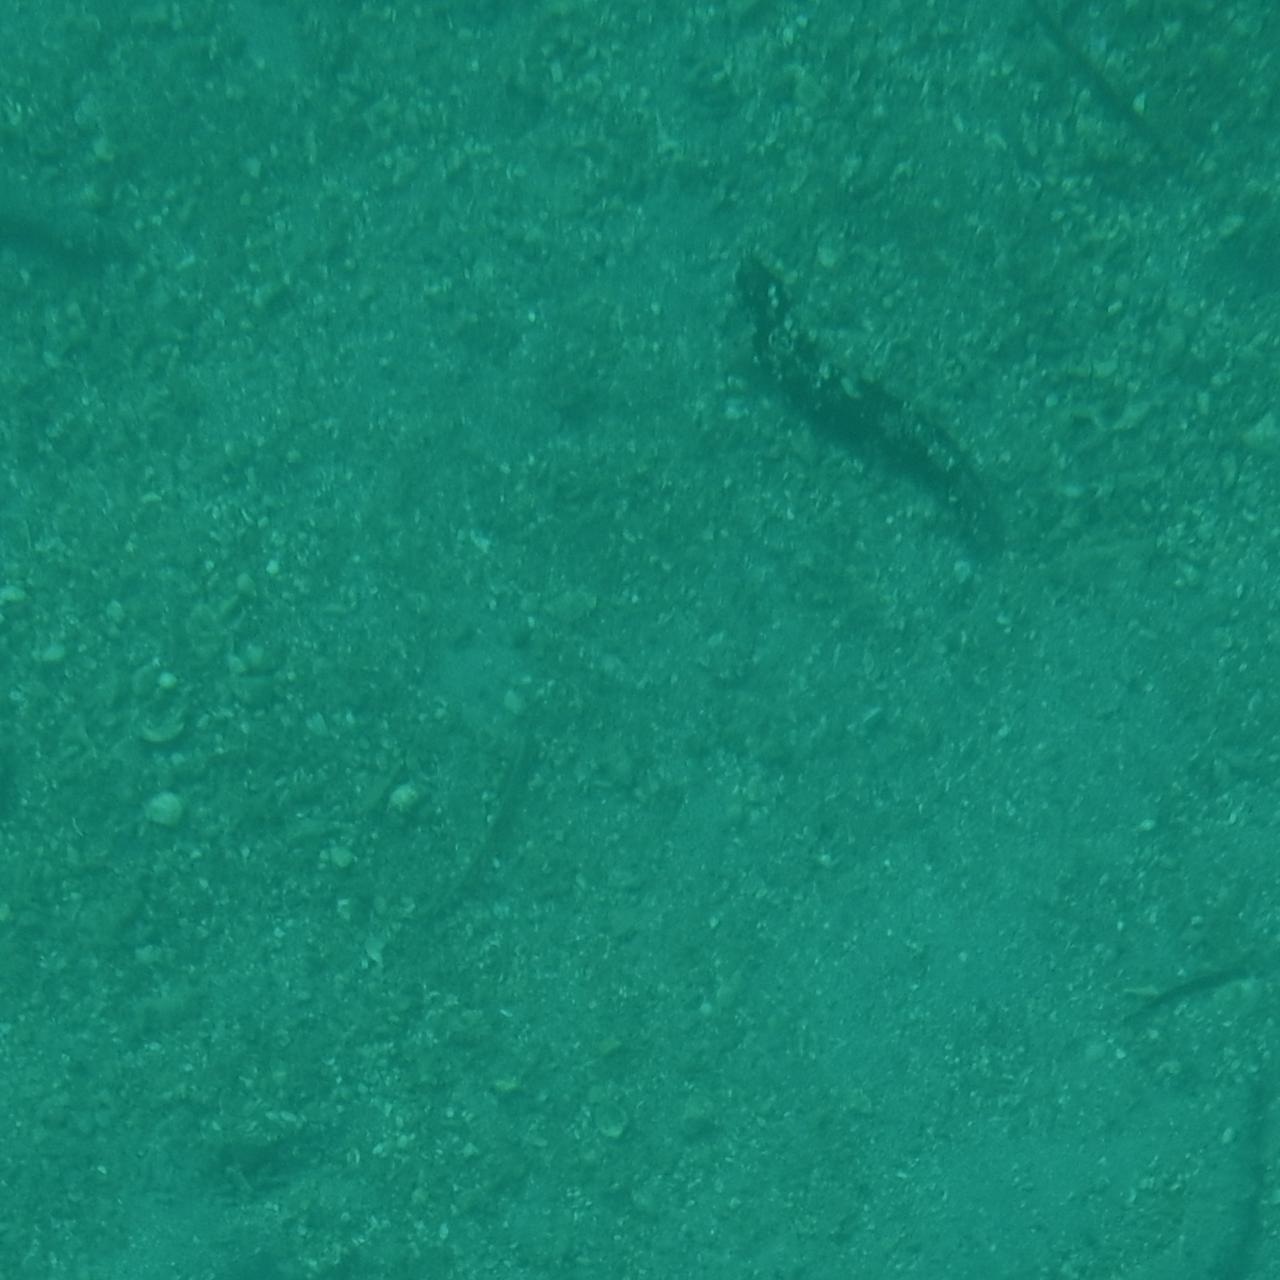Holothuria tubulosa: (716, 252, 1014, 570), (1043, 1073, 1280, 1280), (1155, 791, 1280, 1143), (1148, 0, 1280, 331), (318, 1082, 497, 1280), (0, 149, 189, 327), (81, 0, 411, 93), (1157, 1096, 1280, 1280), (0, 0, 179, 68), (1191, 0, 1280, 136)
